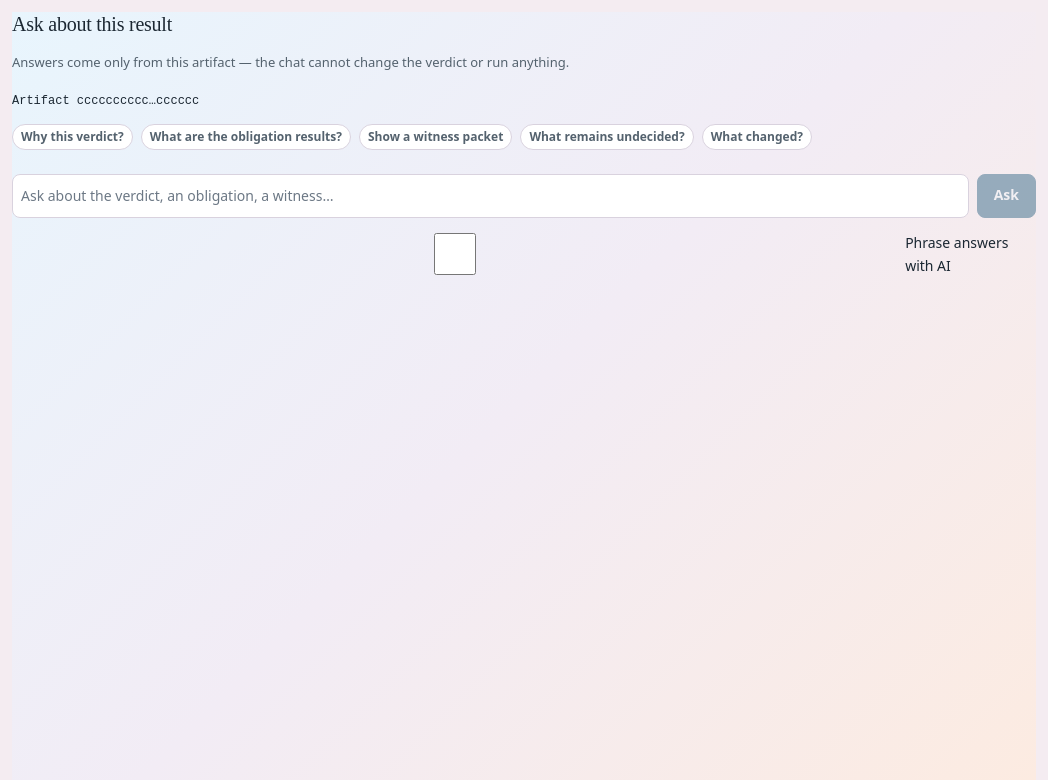
Test case: P1-10 interrogation chat panel › fills the input from a suggestion chip without asking
This screenshot has width=1048, height=780.
Click the button "Show a witness packet" at [436, 137], box [359,124,512,150]
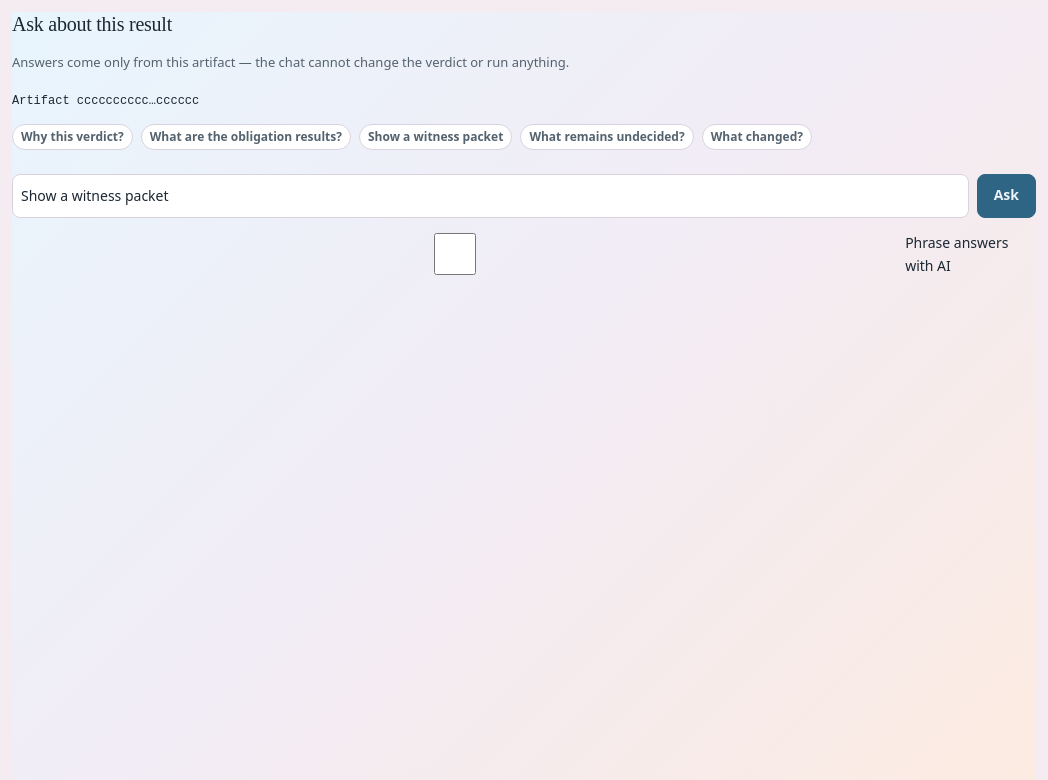
Result: the field with placeholder "Ask about the verdict, an obligation, a witness…" holds "Show a witness packet" at [12,174,969,218]
